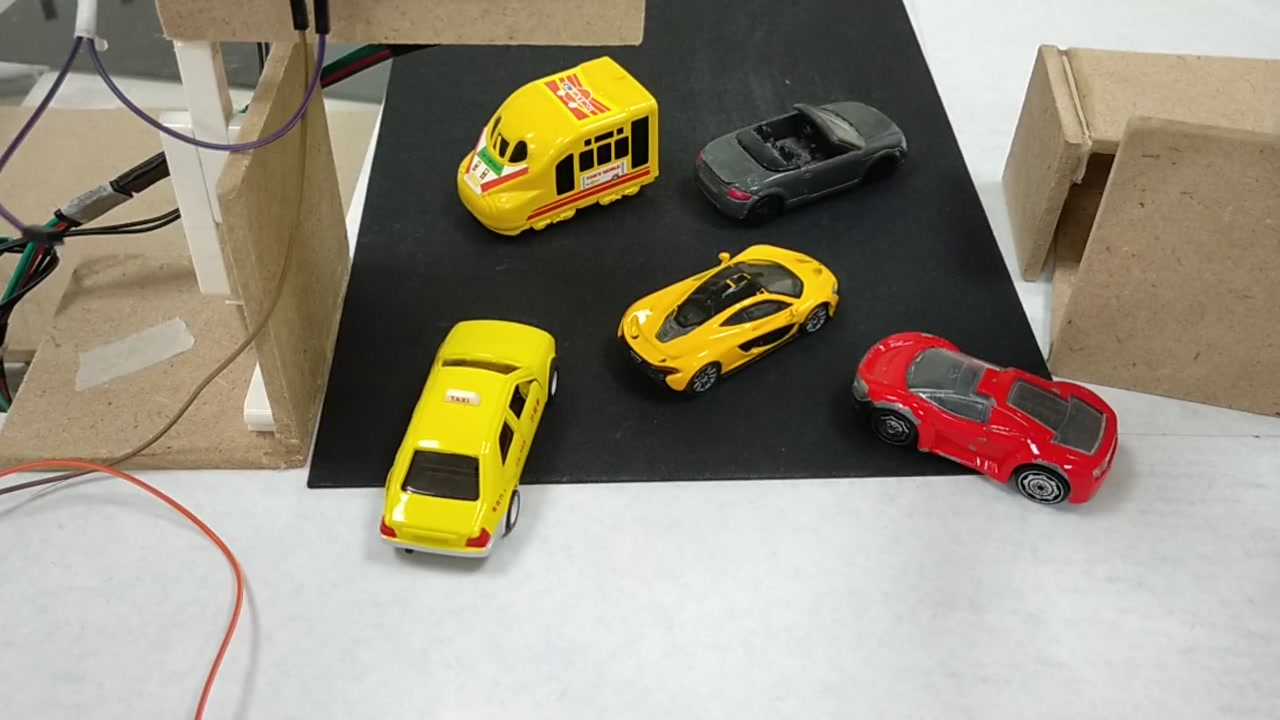car: (851, 325, 1127, 514), (379, 314, 566, 550), (611, 249, 831, 388), (693, 96, 904, 216)
